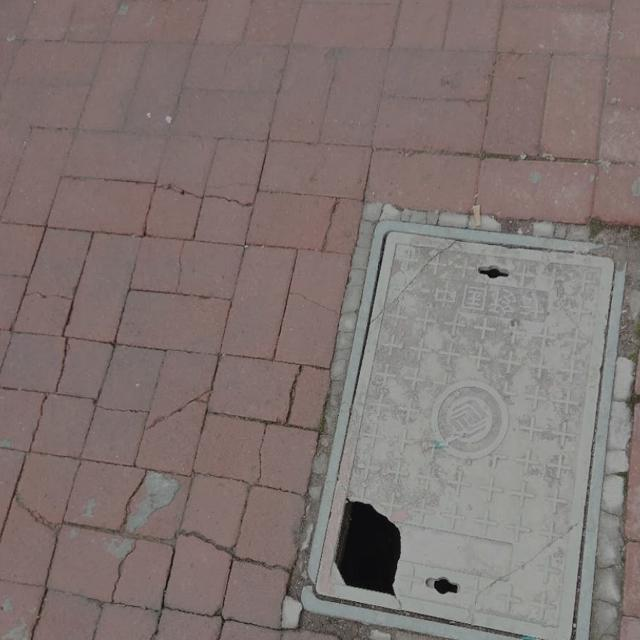broke: (300, 219, 631, 640)
